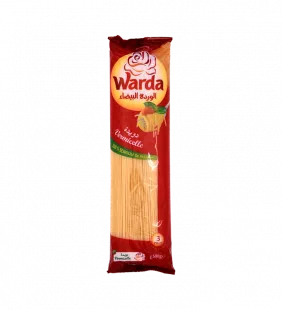LA ROSE BLANCHE: (100, 29, 180, 283)
